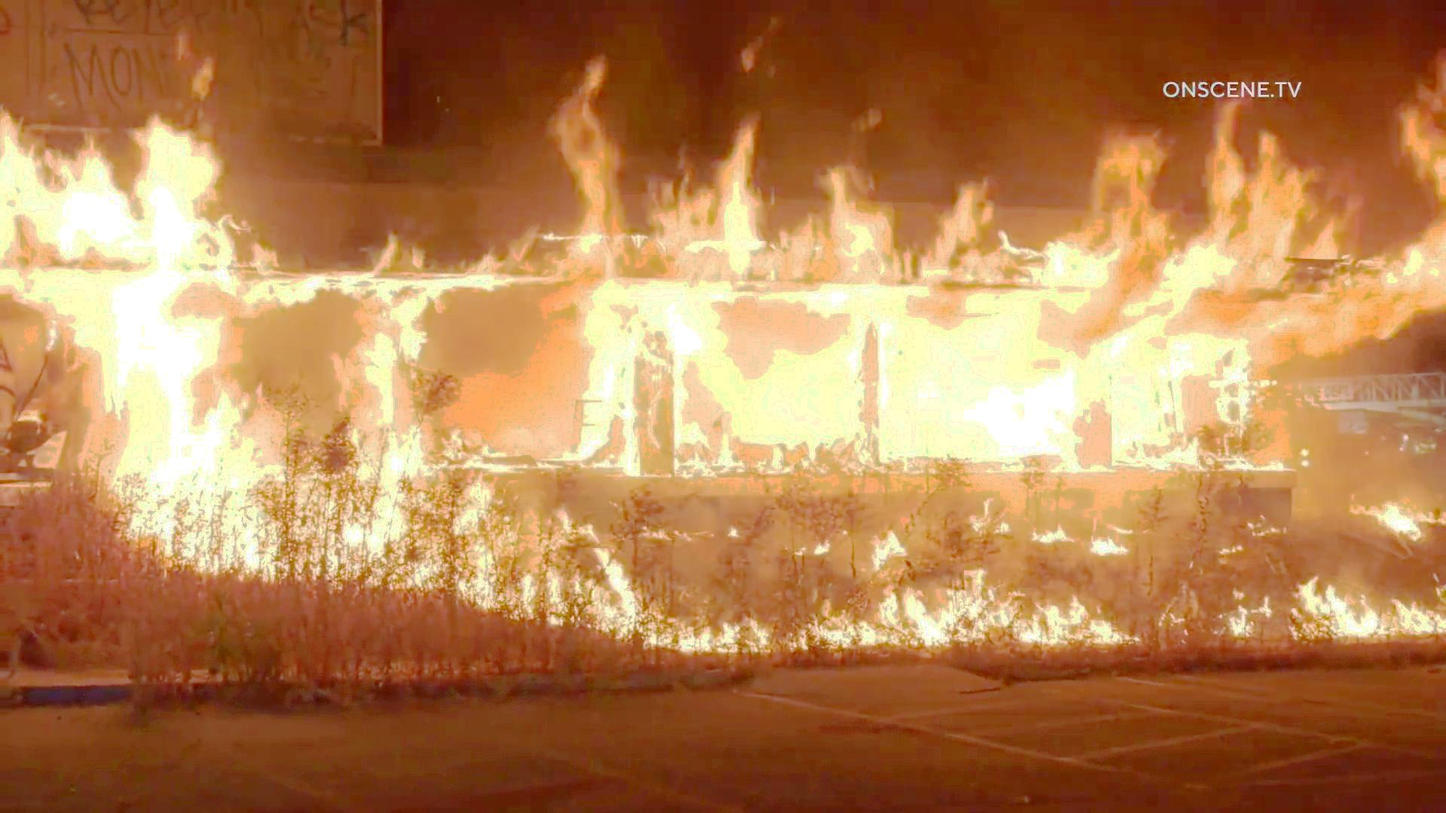fire: (772, 115, 1296, 502), (0, 64, 259, 556), (296, 228, 552, 615), (550, 74, 782, 494), (546, 499, 1147, 657)
